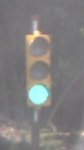Green: (18, 30, 56, 125)
